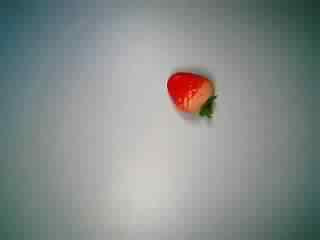strawberry: (157, 63, 225, 127)
